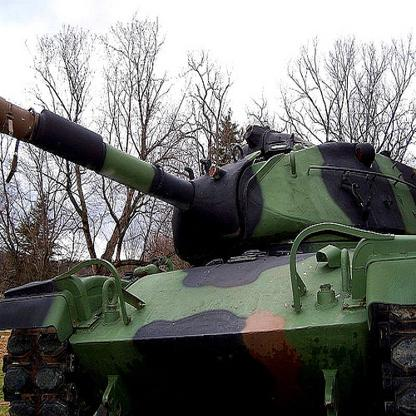Tank: (1, 88, 416, 416)
